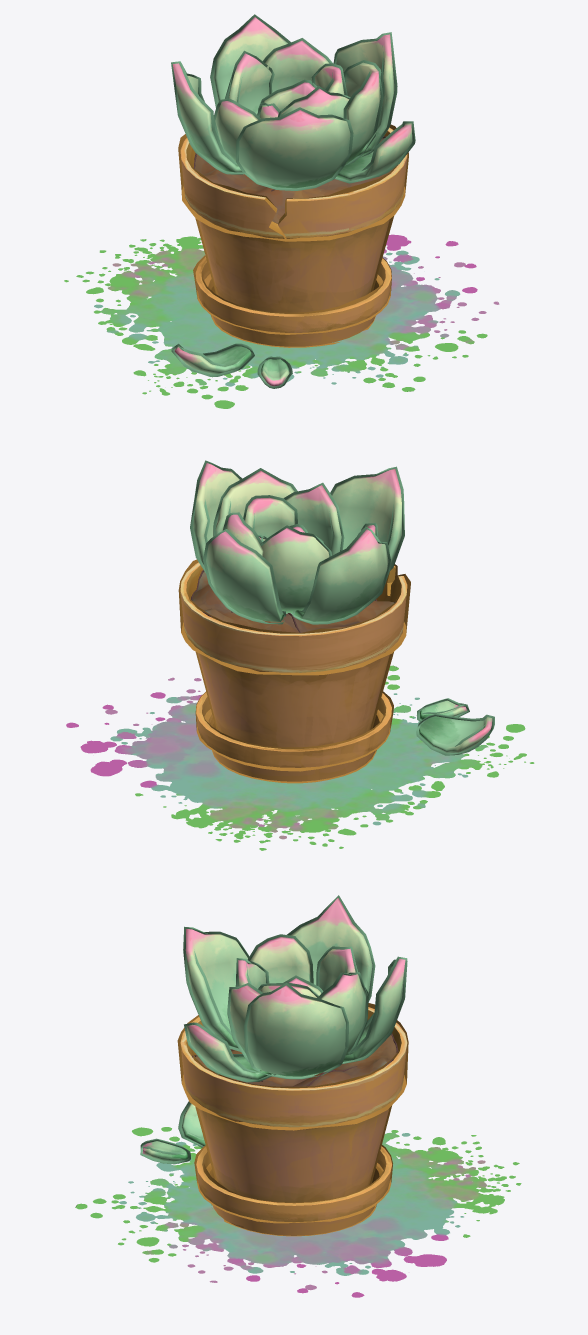
Rendered from watercolor_succulent.glb.
The picture shows the model from 3 angles, top to bottom: view 1: azimuth 30°, elevation 25°; view 2: azimuth 150°, elevation 25°; view 3: azimuth 270°, elevation 25°; orthographic projection.
Parts seen in each view (by area): view 1: Succulent_4, Maceta_2, Splatter_6, Plate_1, Dirt_3; view 2: Succulent_4, Maceta_2, Splatter_6, Plate_1, Dirt_3; view 3: Succulent_4, Maceta_2, Splatter_6, Plate_1, Dirt_3.
Boxes of the visible parts, box(x1,y1,x2,y2) form: Succulent_4: box(171, 14, 415, 388); Maceta_2: box(178, 124, 408, 312); Splatter_6: box(64, 234, 499, 408); Plate_1: box(193, 255, 391, 347); Dirt_3: box(195, 138, 392, 223); Succulent_4: box(190, 460, 494, 755); Maceta_2: box(178, 559, 410, 747); Splatter_6: box(66, 665, 534, 850); Plate_1: box(195, 691, 393, 783); Dirt_3: box(192, 571, 394, 632); Succulent_4: box(140, 895, 407, 1164); Maceta_2: box(177, 1003, 408, 1202); Splatter_6: box(75, 1127, 521, 1297); Plate_1: box(194, 1145, 392, 1236); Dirt_3: box(193, 1035, 396, 1086).
Size of the model in its own units: 6.91 by 3.57 by 6.91.
6 materials, 6 textured.
